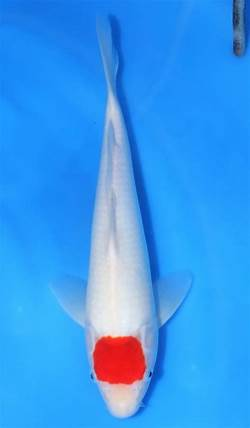sun: (50, 13, 193, 419)
